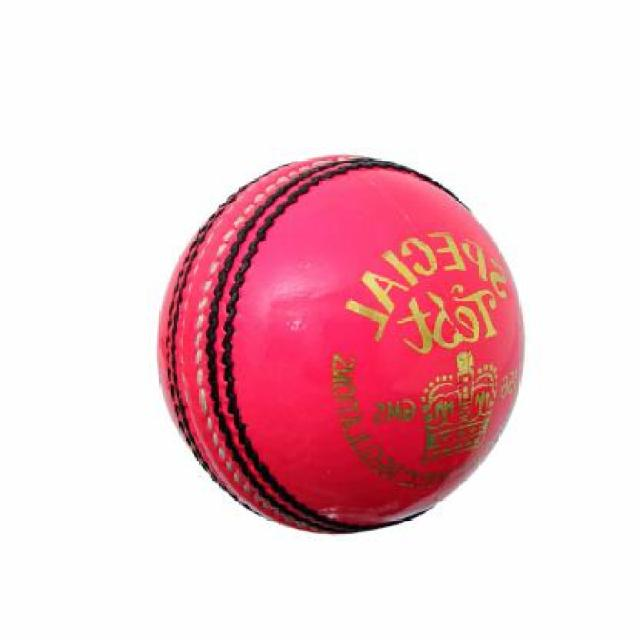ball: (105, 118, 567, 568)
